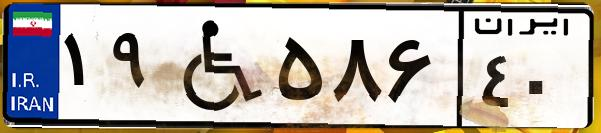0: (525, 38, 570, 115)
1: (57, 26, 110, 100)
4: (475, 38, 525, 113)
5: (270, 28, 330, 110)
6: (385, 28, 445, 110)
8: (330, 28, 385, 110)
9: (110, 28, 158, 98)
ژ (معلولین و جانبازان): (158, 12, 270, 120)
